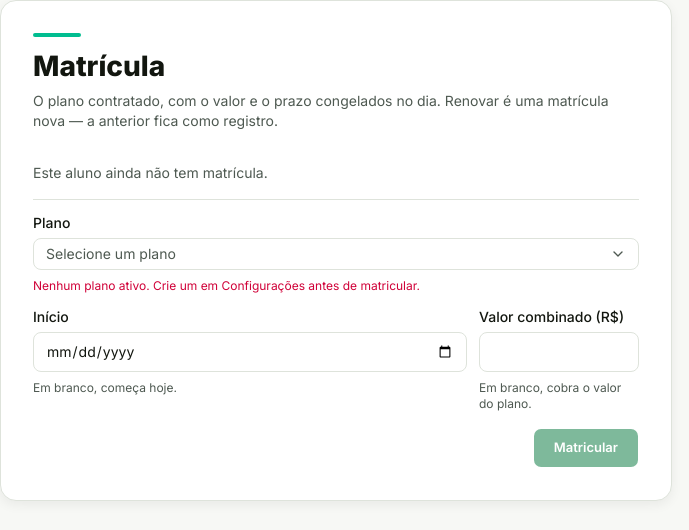
Test: MatriculaDoAluno › `CONTRATO_NAO_PUBLICADO` manda o GESTOR publicar — saída diferente
The image size is (689, 530).
Click the dropdown labelled "plano" at (111,254), box [33,238,639,270]
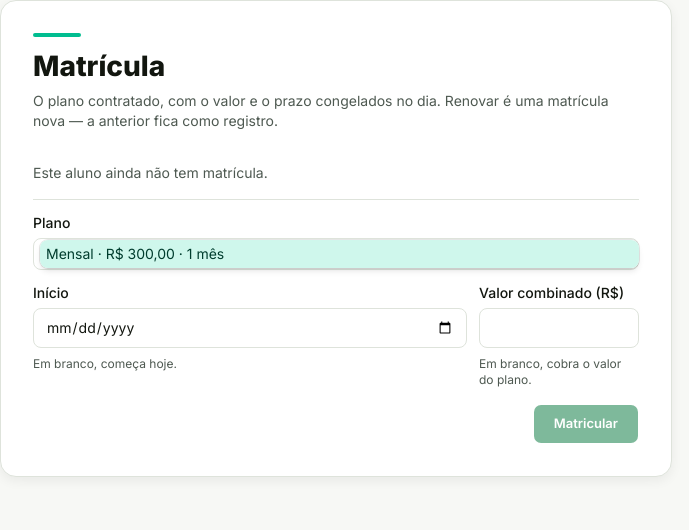
Click the option "Mensal · R$ 300,00 · 1 mês" at (70,254), box [40,240,639,268]
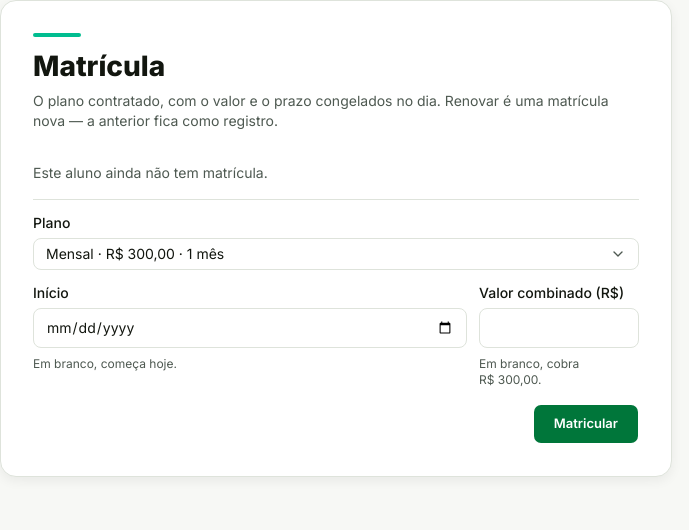
Click the button "Matricular" at (586,424), box [533,404,639,444]
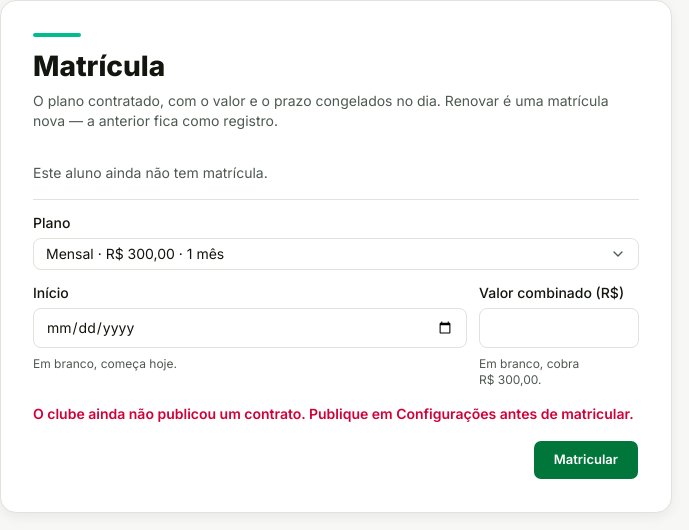
Check: the text "Publique em Configurações" is shown, box [33,405,634,422]
